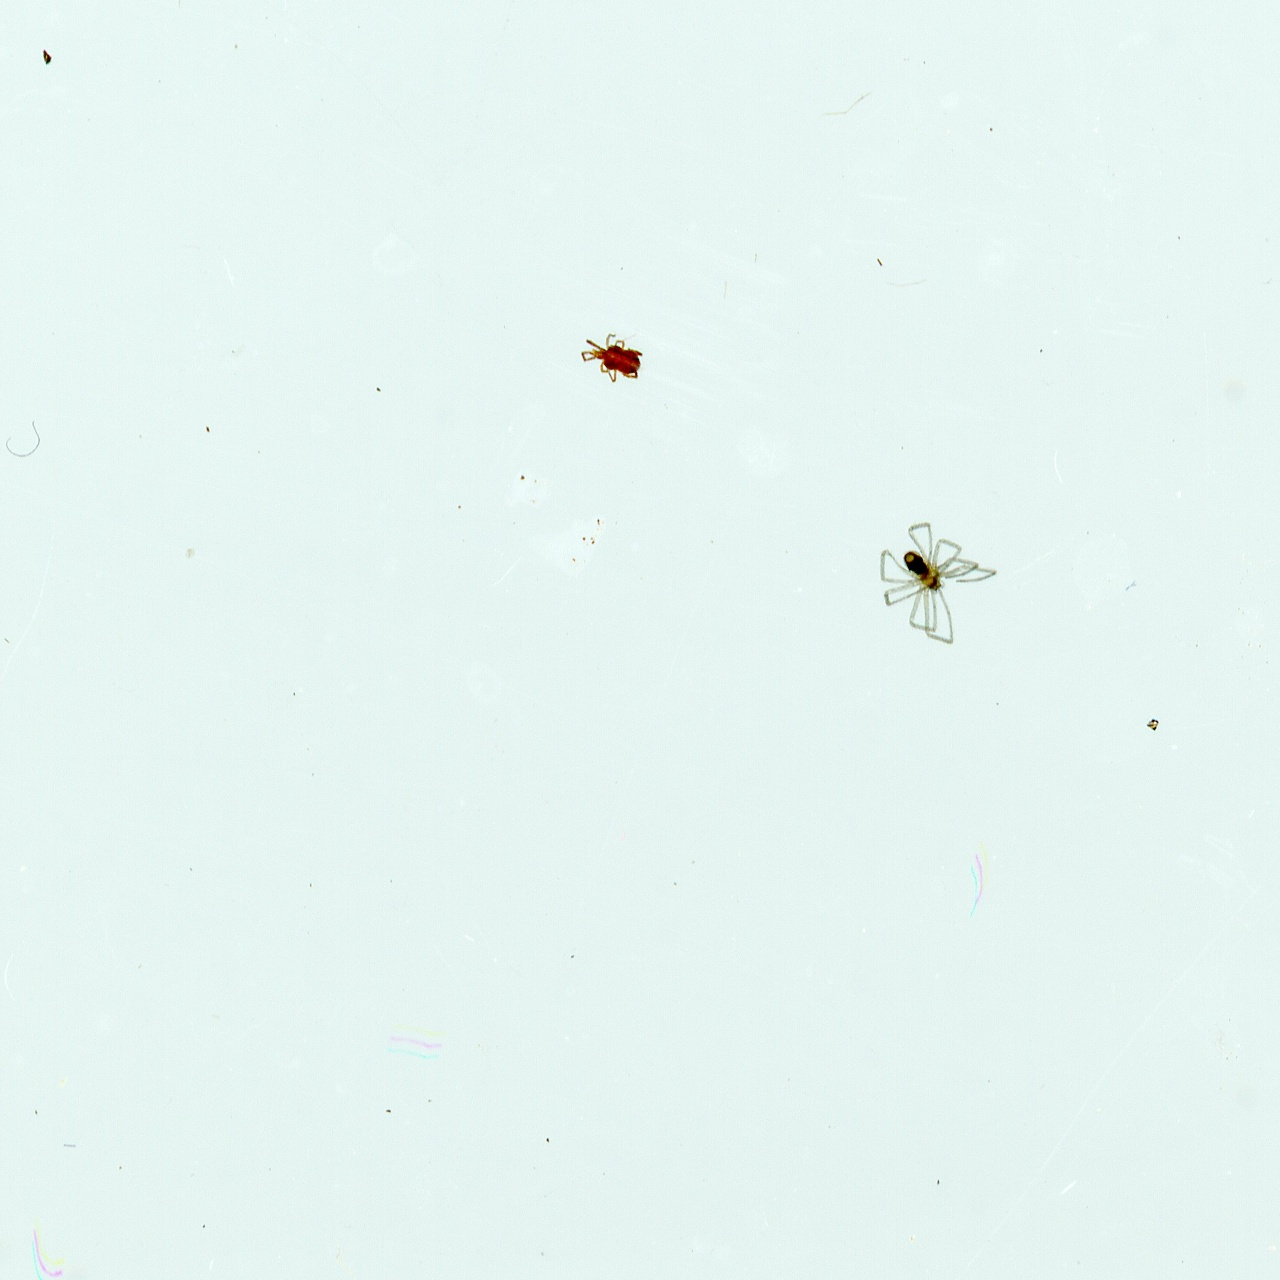arthropod: (878, 520, 999, 646), (574, 330, 648, 386)
